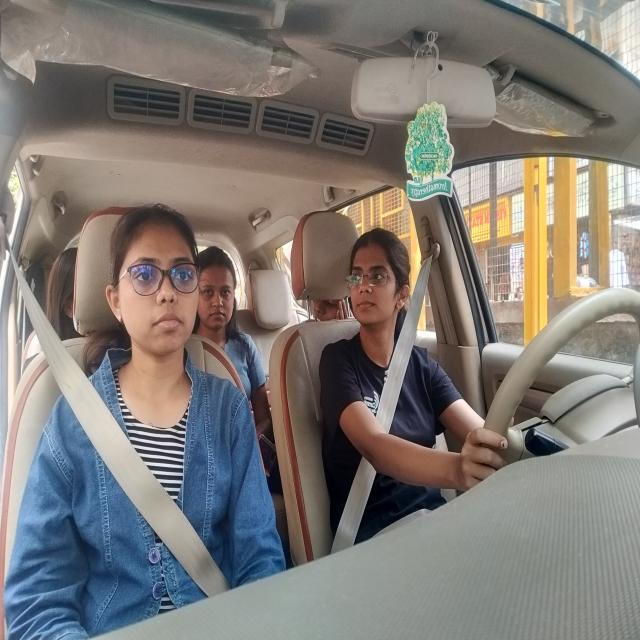LeftRight: (350, 229, 415, 343)
person: (106, 203, 205, 384), (200, 245, 240, 349), (300, 294, 350, 330)
